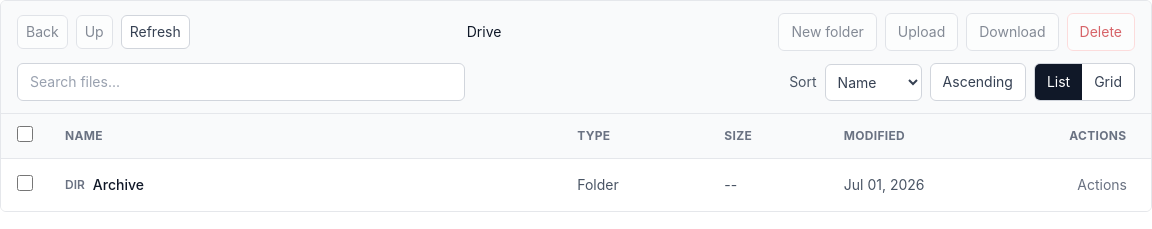
Test case: FileManager › navigates folders with a data provider
The image size is (1152, 229).
Click the button "DIR Archive" at x=104, y=185, box x1=65 y1=175 x2=144 y2=195
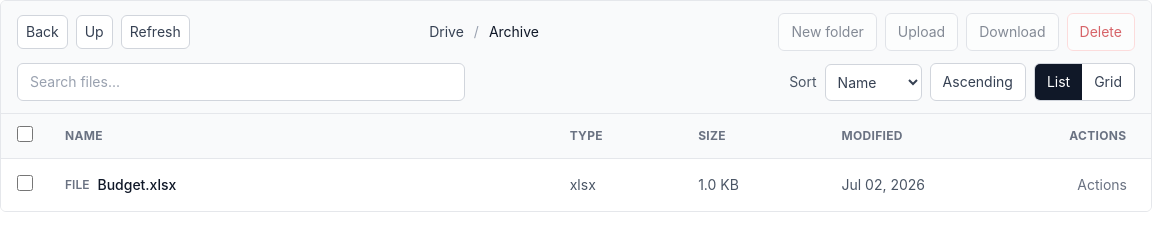
Expected: the button "FILE Budget.xlsx" is shown, x1=65 y1=175 x2=176 y2=195
